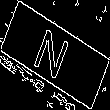N_SW: (33, 23, 77, 87)
